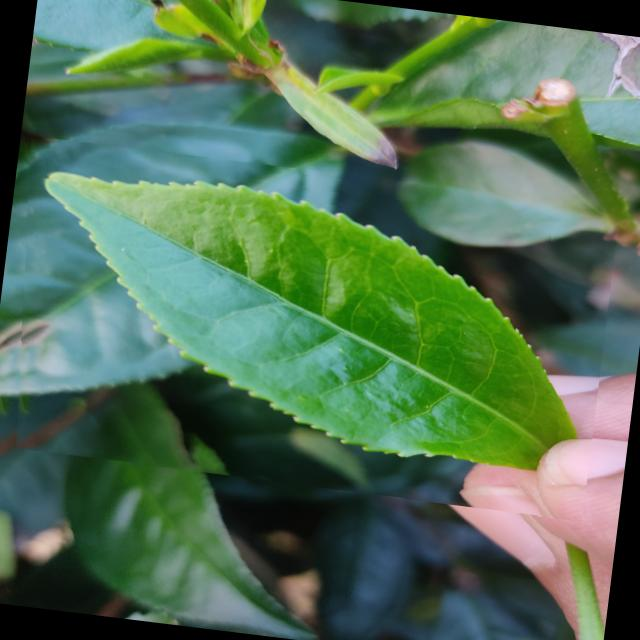Category C(4-7 days): (0, 135, 620, 521)
